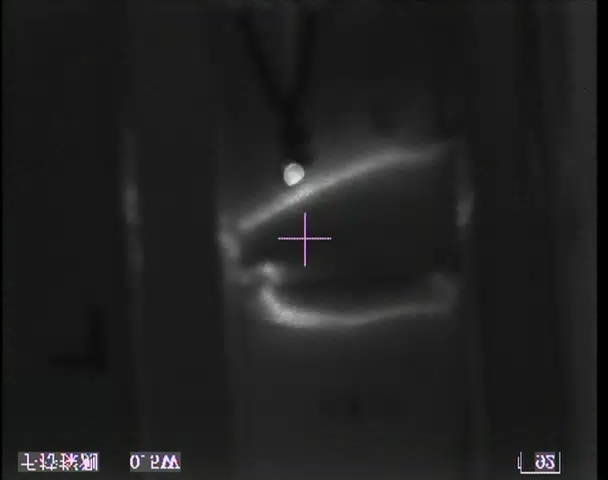my: (281, 160, 307, 189)
